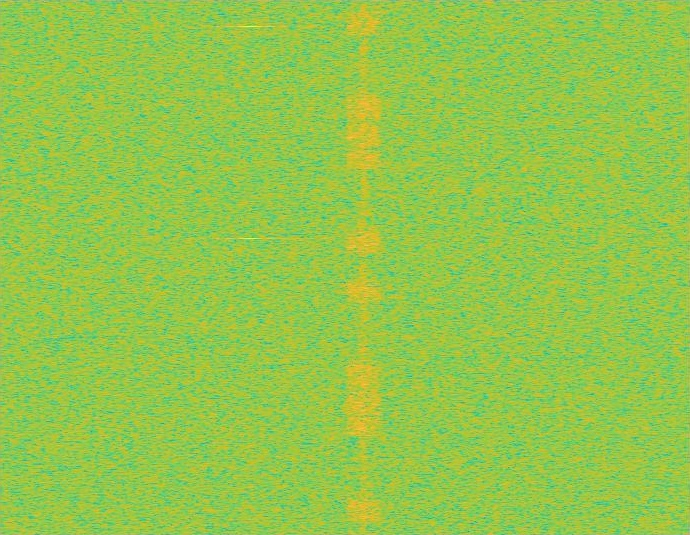DSSS: (360, 0, 367, 534)
LTE: (346, 0, 381, 534)
Radar: (243, 0, 257, 534)
